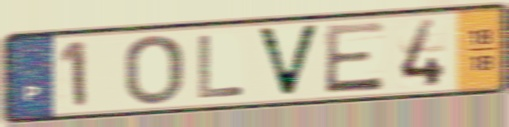1: (57, 38, 89, 110)
4: (397, 17, 448, 90)
E: (322, 19, 387, 96)
L: (195, 32, 247, 101)
O: (122, 32, 187, 107)
V: (253, 22, 324, 100)
